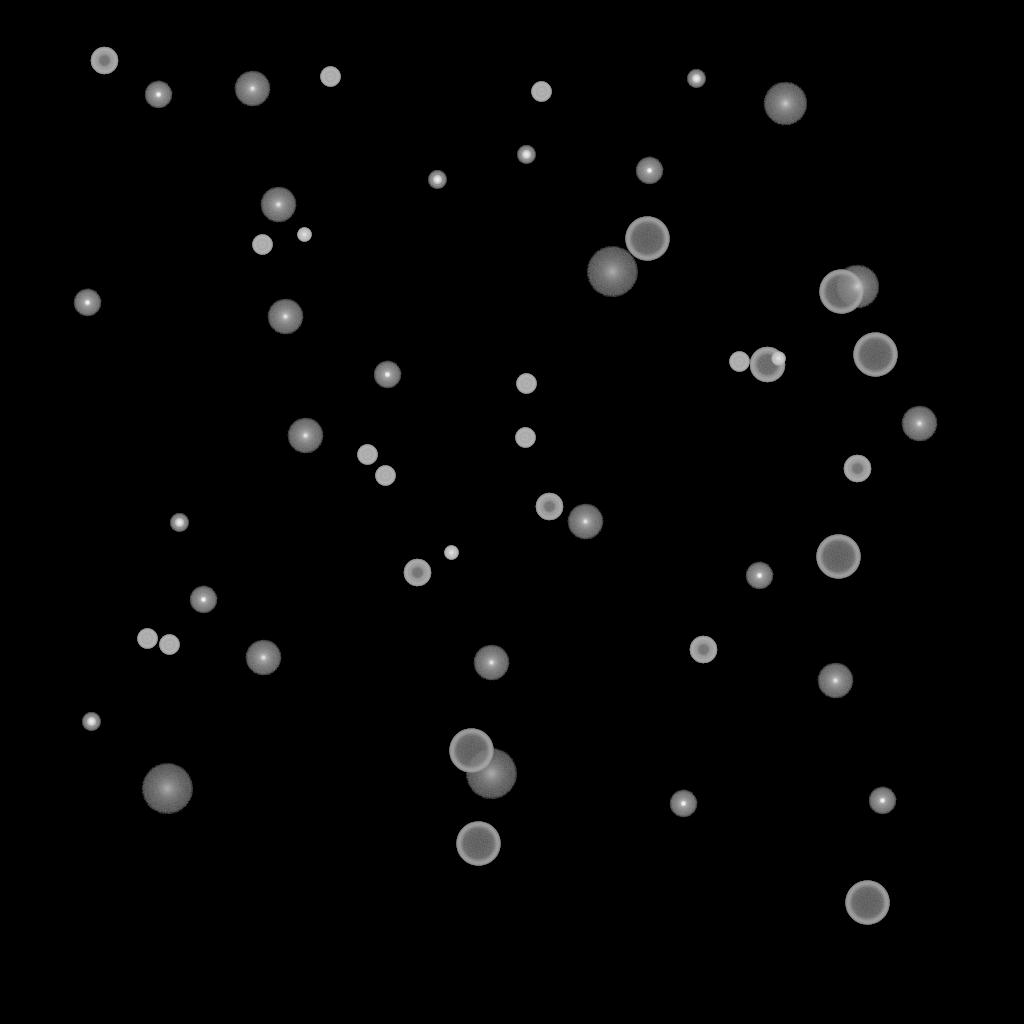depth:-10: (745, 562, 773, 590), (669, 790, 697, 818), (635, 157, 663, 185), (373, 361, 401, 389), (73, 289, 101, 317), (189, 586, 217, 614), (868, 787, 896, 815), (144, 81, 172, 109)
depth:-20: (687, 70, 705, 88), (428, 171, 446, 189), (517, 146, 535, 164), (170, 514, 188, 532), (82, 713, 100, 731)
depth:-30: (771, 352, 785, 366), (297, 228, 311, 242), (444, 546, 458, 560)
depth:-40: (729, 352, 749, 372), (159, 635, 179, 655), (516, 374, 536, 394), (320, 67, 340, 87), (137, 629, 157, 649), (252, 235, 272, 255), (531, 82, 551, 102), (375, 466, 395, 486), (357, 445, 377, 465), (515, 428, 535, 448)
depth:-50: (90, 47, 118, 75), (689, 636, 717, 664), (535, 493, 563, 521), (403, 559, 431, 587), (843, 455, 871, 483)
depth:-60: (749, 347, 785, 383)
depth:-70: (845, 881, 889, 925), (625, 217, 669, 261), (449, 729, 493, 773), (853, 333, 897, 377), (816, 535, 860, 579), (819, 270, 863, 314), (456, 822, 500, 866)
depth:0: (260, 187, 296, 223), (473, 645, 509, 681), (287, 418, 323, 454), (817, 663, 853, 699), (267, 299, 303, 335), (567, 504, 603, 540), (245, 640, 281, 676), (901, 406, 937, 442), (234, 71, 270, 107)
depth:10: (835, 265, 879, 309), (763, 82, 807, 126)
depth:20: (586, 247, 638, 297), (465, 749, 517, 799), (141, 764, 193, 814)
